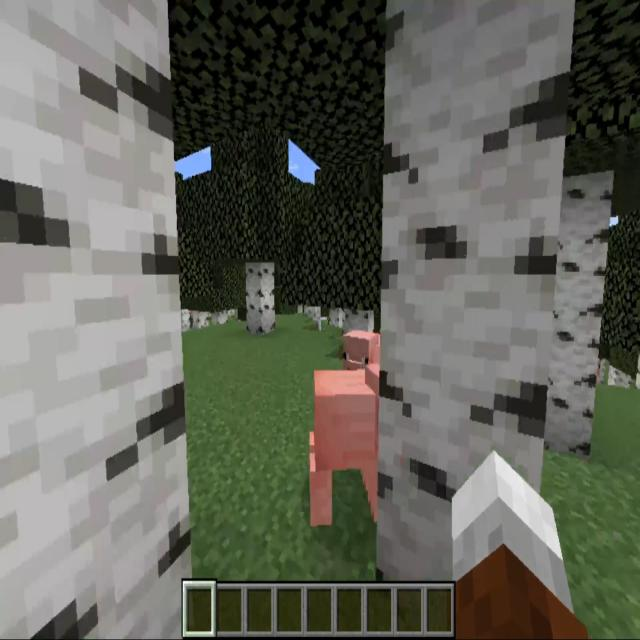Pig: (308, 366, 415, 526), (337, 321, 384, 378)
